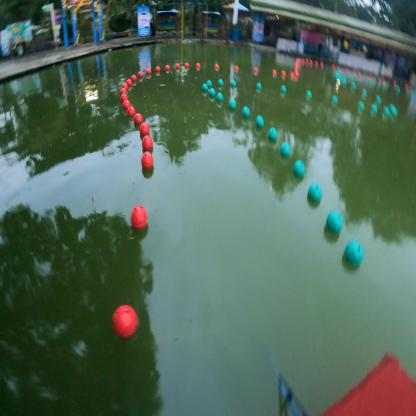green_buoy: (345, 239, 364, 268)
red_buoy: (112, 306, 137, 338), (132, 204, 147, 228), (141, 153, 153, 171), (141, 135, 153, 151), (140, 123, 150, 135), (134, 112, 142, 124), (127, 106, 136, 116), (123, 100, 131, 108), (120, 88, 127, 96), (121, 94, 128, 102), (121, 84, 128, 91), (126, 79, 132, 86), (132, 74, 136, 82), (155, 66, 160, 72), (146, 69, 151, 75), (185, 62, 189, 69), (176, 63, 180, 70), (166, 64, 170, 70), (138, 71, 142, 77)
